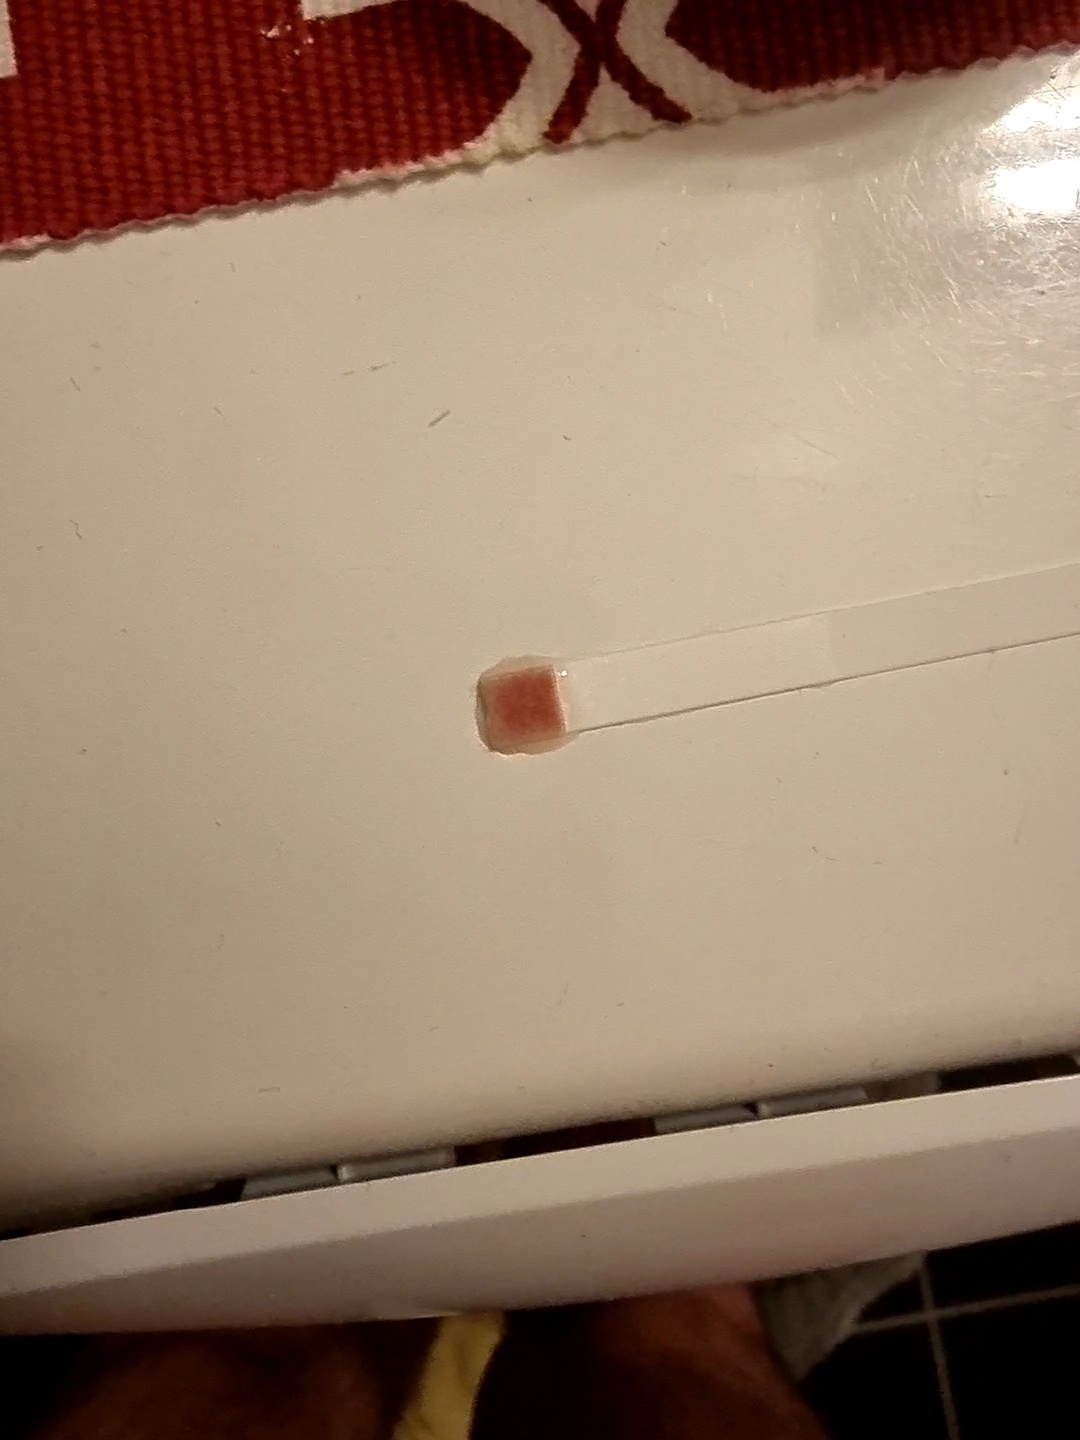keto-tip: (474, 660, 575, 763)
